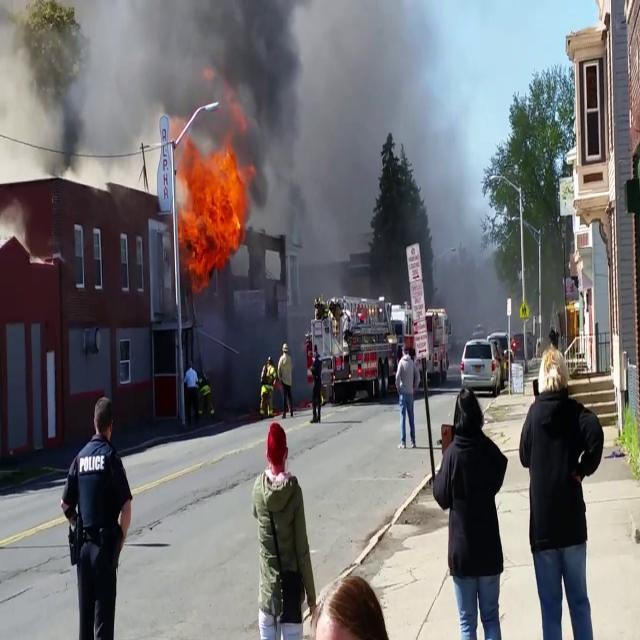Fire: (174, 130, 256, 279)
Smoke: (0, 0, 320, 161)
